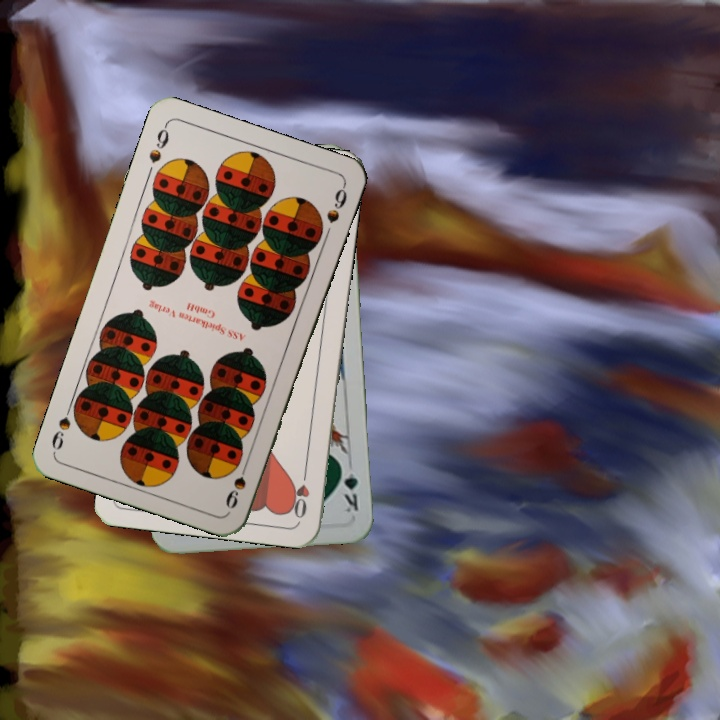GK: (337, 458, 361, 515)
HO: (288, 463, 312, 521)
S9: (221, 455, 252, 512), (144, 120, 172, 166)
